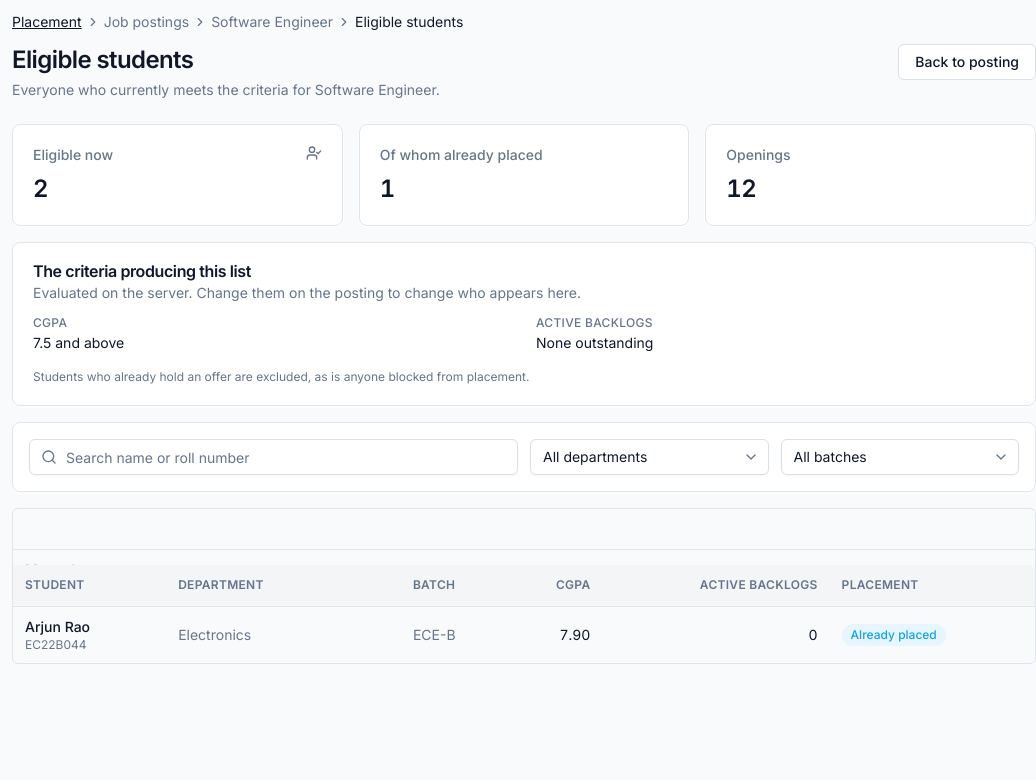
Test case: Eligible students page › filters by department
Check: the text "Meera Iyer" is shown, box [25,560,97,578]
Select "Electronics" in the dropdown named "Filter by department" at (649, 457), box [530,439,768,475]
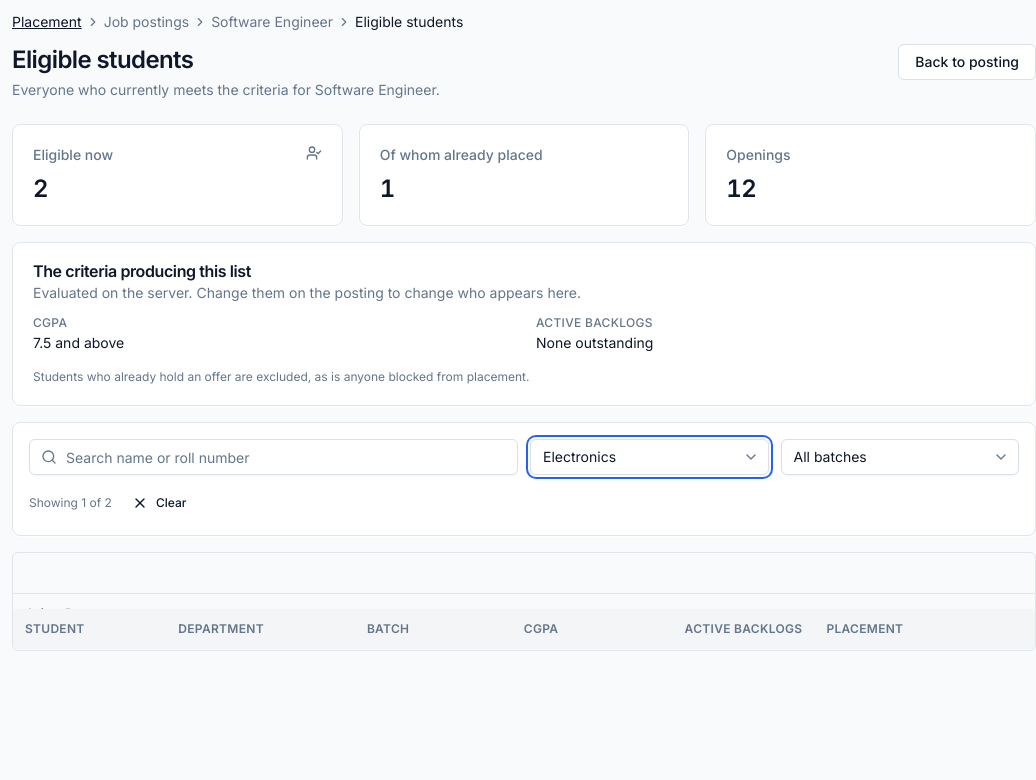
Check: the text "Meera Iyer" is not shown
Check: the text "Showing 1 of 2" is shown, box [29,495,112,511]
